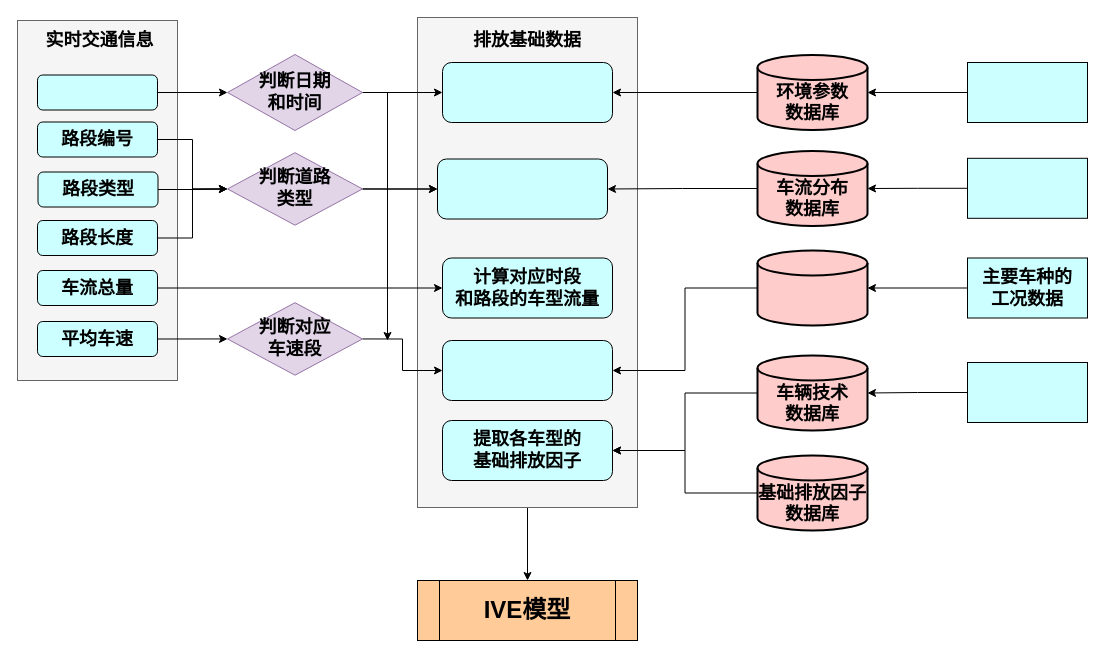
Some shapes in this 1105 by 658 pixel diagram are drawn without their labels. The centre of each missing label's shape, as x and y in pixels:
"VSP分布 数据库" belongs at (x=812, y=287).
"典型路段和 时段车流量" belongs at (x=1027, y=187).
"提取对应时段 和路段的车流分布" belongs at (x=522, y=188).
"提取对应时段 的环境参数" belongs at (x=527, y=92).
"提取相应车速段 的VSP分布数据" belongs at (x=527, y=370).
"油品、温湿度等相关参数" belongs at (x=1027, y=92).
"计算时段" belongs at (x=97, y=92).
"车辆技术分布调查数据" belongs at (x=1027, y=392).
